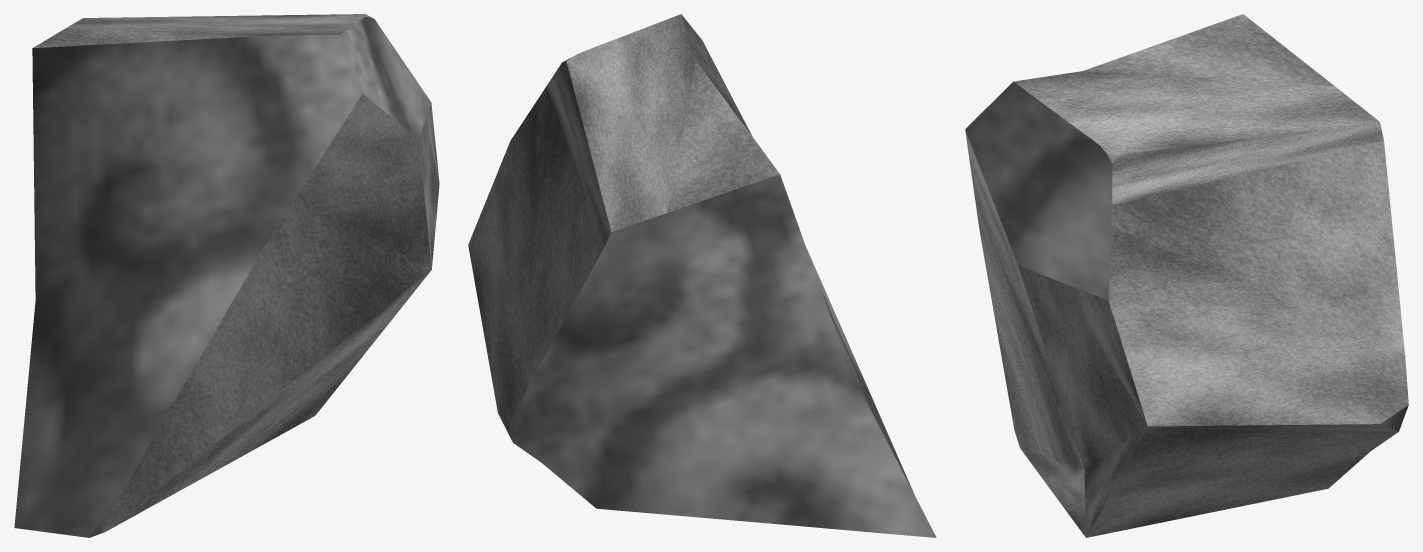
The model's file is tail_cell_002.fbx.
The picture shows the model from 3 angles, left to right: view 1: azimuth 30°, elevation 25°; view 2: azimuth 150°, elevation 25°; view 3: azimuth 270°, elevation 25°; orthographic projection. The views are drawn at different scales.
Parts seen in each view (by area): view 1: tail_cell.002; view 2: tail_cell.002; view 3: tail_cell.002.
Part boxes in pixels (x1=…): tail_cell.002: x1=14, y1=14, x2=439, y2=537; tail_cell.002: x1=468, y1=14, x2=936, y2=537; tail_cell.002: x1=965, y1=14, x2=1408, y2=537.
Bounding box in the file's own units: 52.79 × 49.43 × 40.19.
